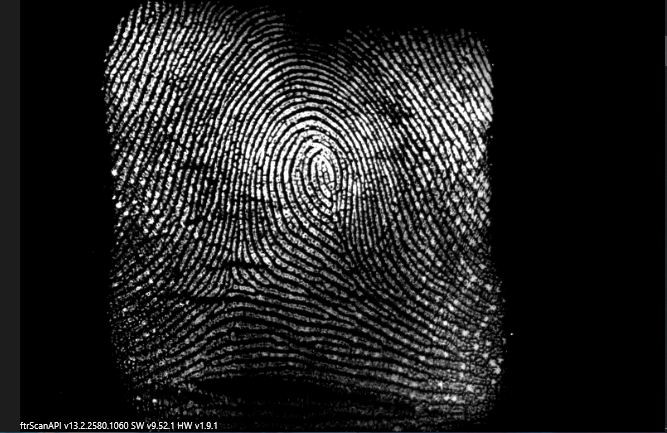nucelo: (301, 149, 340, 205)
verticilo: (219, 269, 256, 300)
